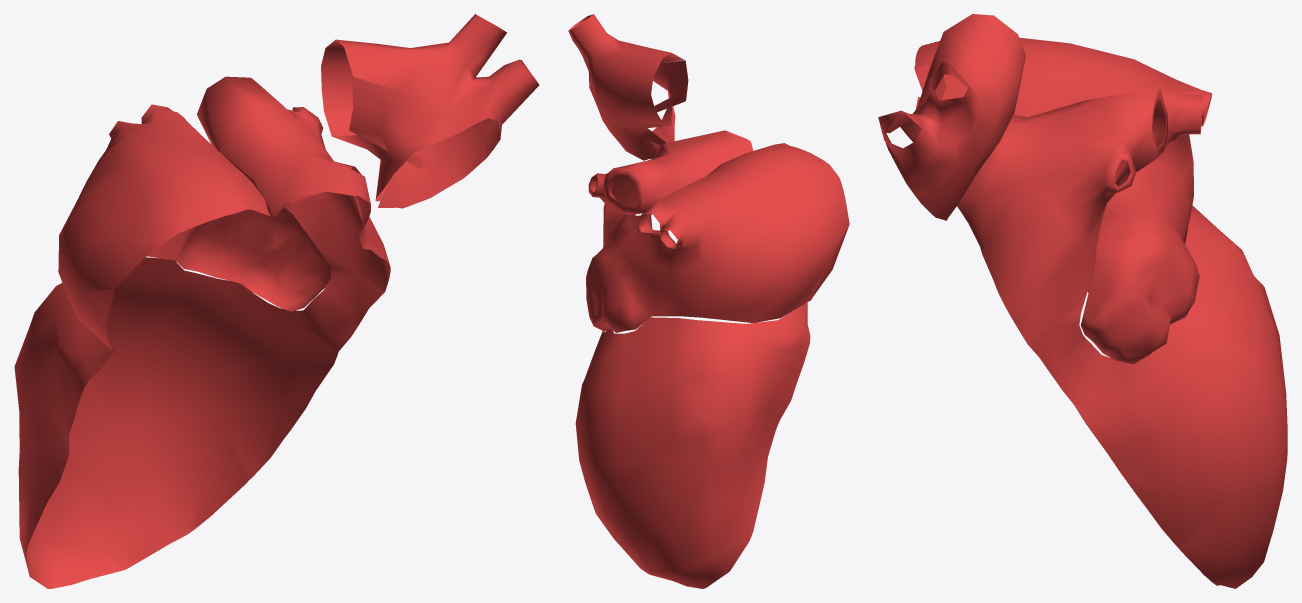
The model's file is heartpart1.fbx.
3 renders of one model, left to right at view 1: azimuth 30°, elevation 25°; view 2: azimuth 150°, elevation 25°; view 3: azimuth 270°, elevation 25°, orthographic. The views are drawn at different scales.
Parts seen in each view (by area): view 1: coeur; view 2: coeur; view 3: coeur.
Part boxes in pixels (box(x1,y1,x2,y2)): coeur: box(14, 14, 539, 588); coeur: box(568, 14, 849, 588); coeur: box(878, 14, 1287, 588).
Bounding box in the file's own units: 194 × 283 × 164.
